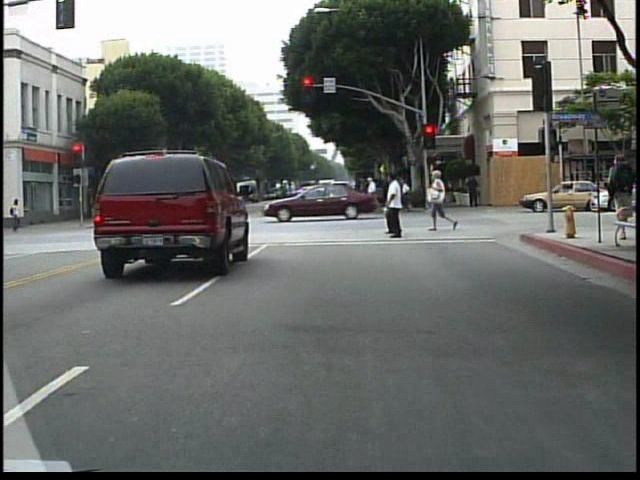person: (381, 173, 417, 244), (428, 170, 462, 235), (603, 147, 635, 209), (380, 174, 398, 237), (364, 173, 385, 219), (466, 168, 485, 212), (350, 178, 372, 210), (145, 188, 161, 232), (124, 190, 141, 231), (398, 176, 415, 212), (9, 198, 25, 233), (2, 200, 16, 235), (276, 176, 293, 203)
